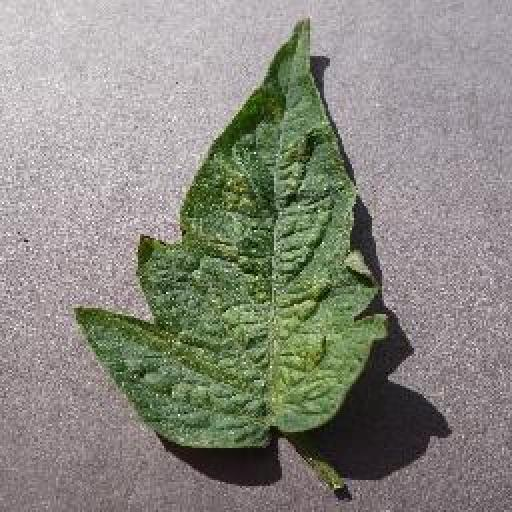disease_tomato: (72, 18, 390, 450)
